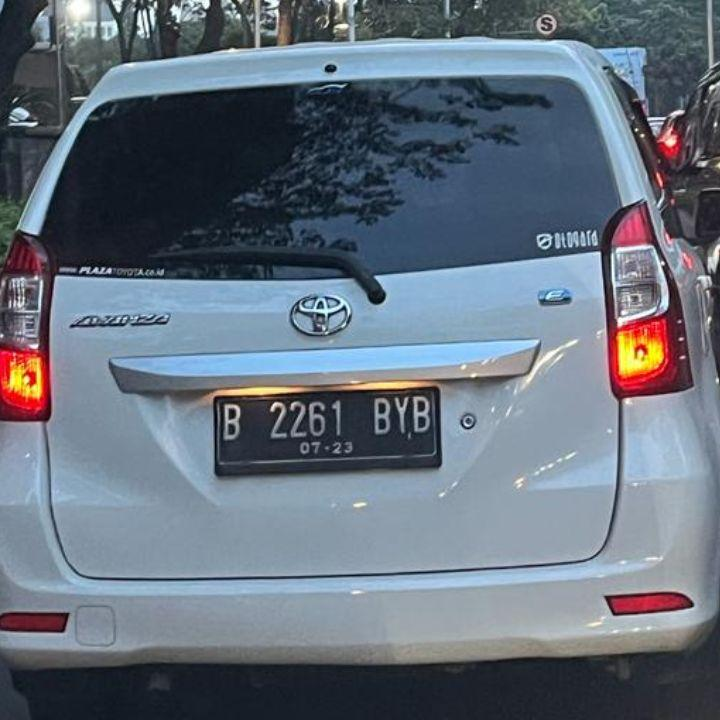plat: (218, 391, 438, 465)
